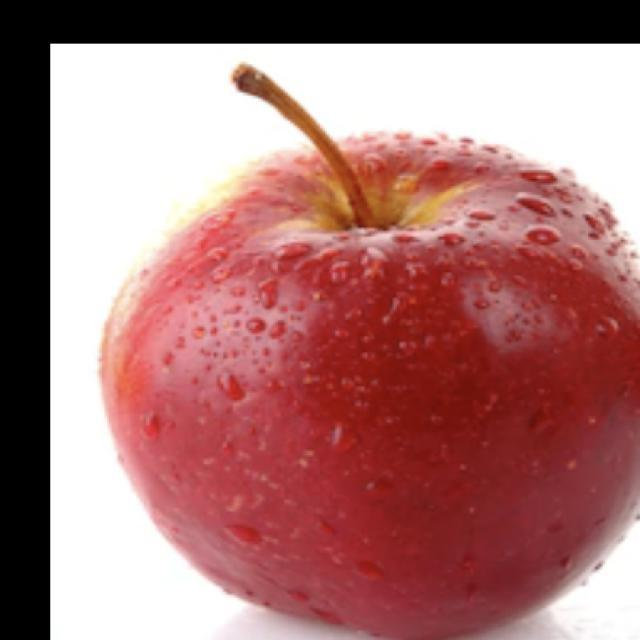Fresh Apple: (104, 122, 640, 640)
